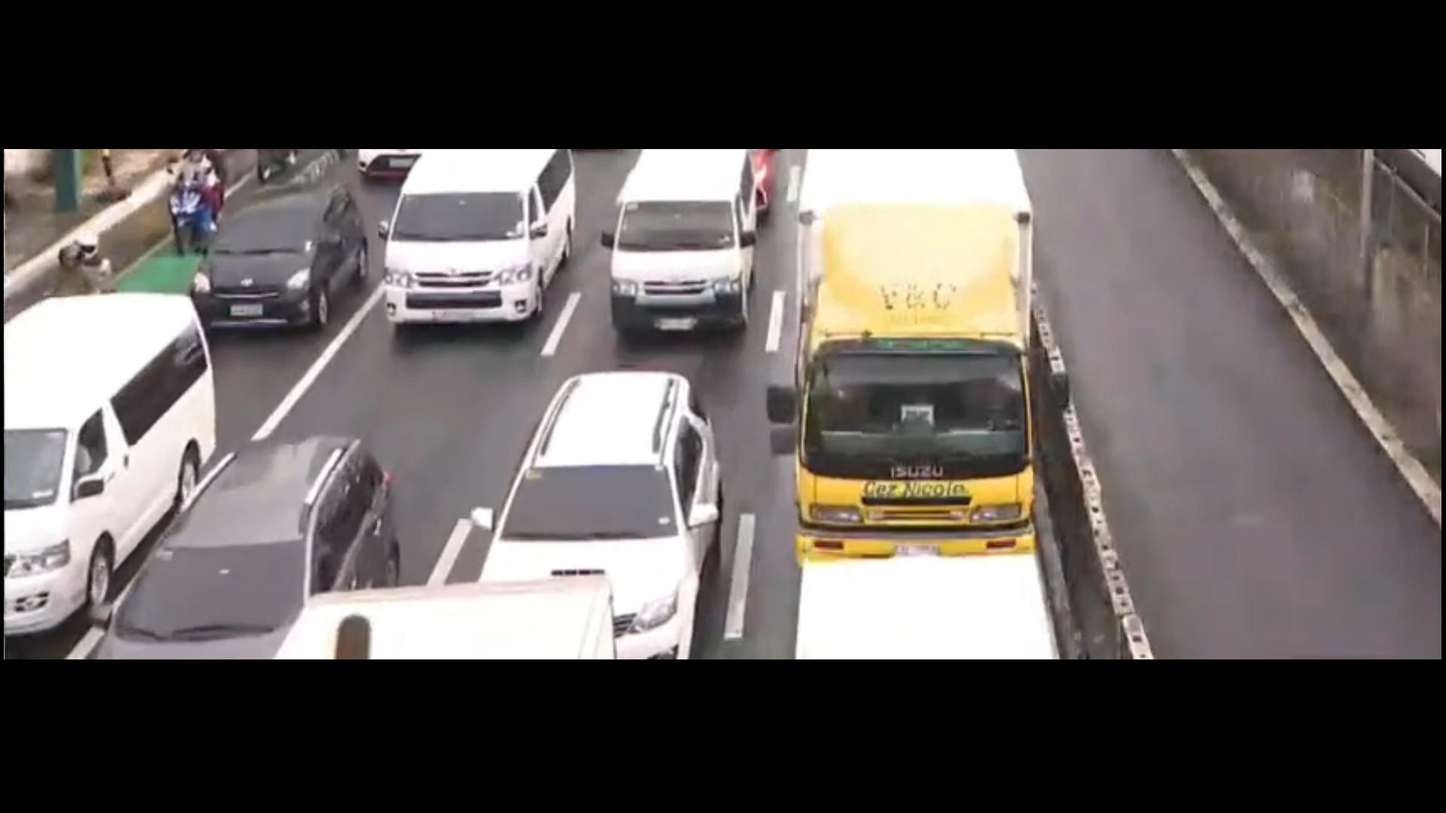Motorcycle: (159, 145, 234, 250)
SUV: (466, 345, 746, 660), (73, 424, 392, 661), (179, 164, 368, 343)
Truck: (778, 146, 1082, 560), (787, 531, 1075, 657)
Van: (0, 285, 241, 634), (369, 149, 573, 365), (599, 148, 760, 355)
